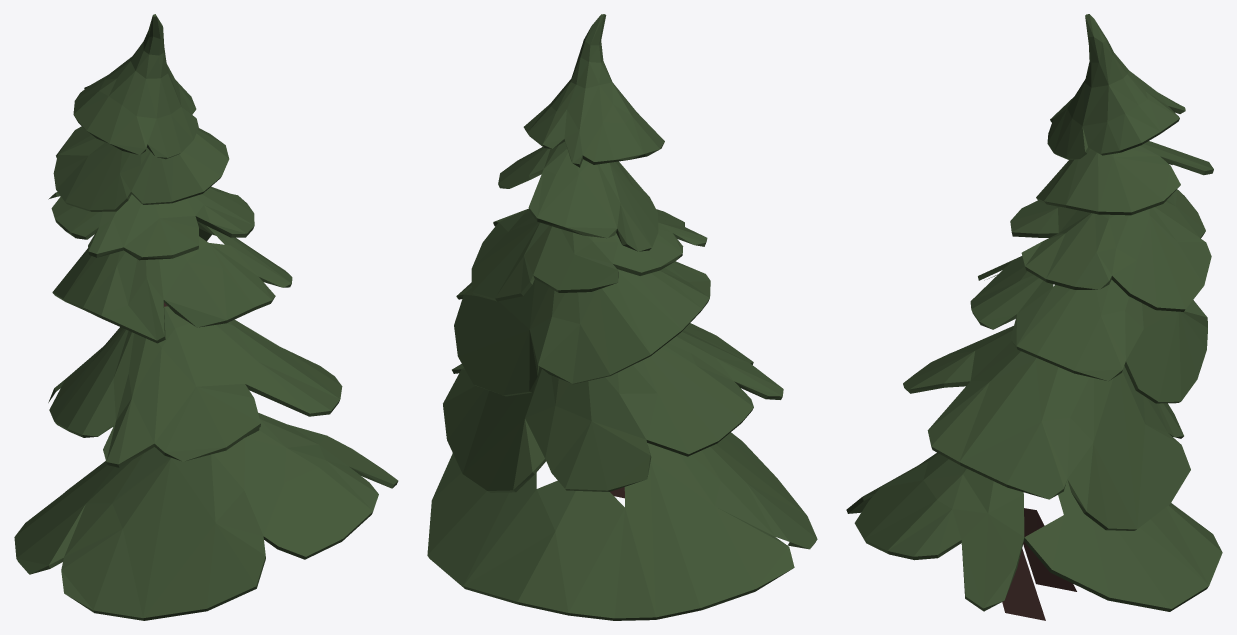
File: PineTree_3.glb
The picture shows the model from 3 angles, left to right: view 1: azimuth 30°, elevation 25°; view 2: azimuth 150°, elevation 25°; view 3: azimuth 270°, elevation 25°; orthographic projection. The views are drawn at different scales.
Parts seen in each view (by area): view 1: PineTree_3_Cylinder.025; view 2: PineTree_3_Cylinder.025; view 3: PineTree_3_Cylinder.025.
Boxes of the visible parts, x1,y1,x2,y2 form: PineTree_3_Cylinder.025: (14,14,398,620); PineTree_3_Cylinder.025: (427,14,817,620); PineTree_3_Cylinder.025: (846,14,1222,620).
Size of the model in its own units: 2.16 by 3.3 by 1.95.
